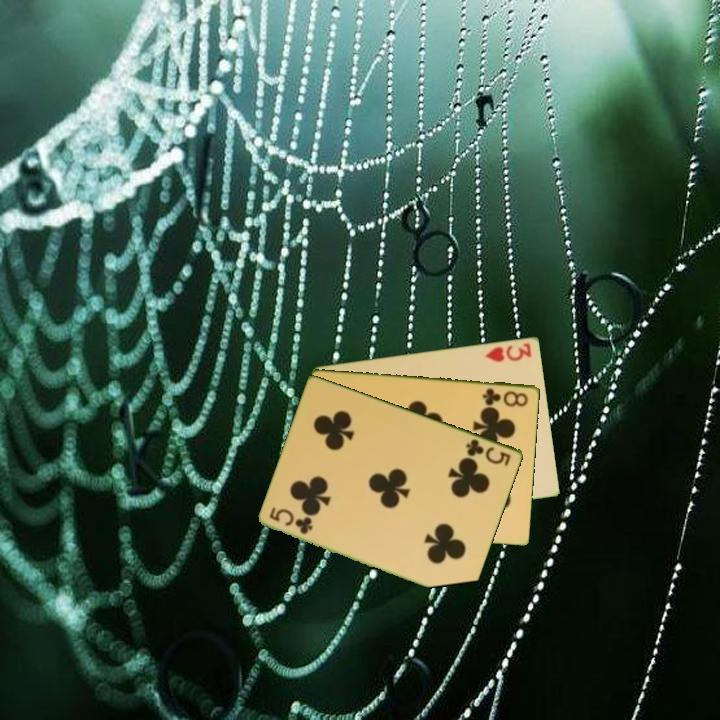3h: (482, 339, 534, 365)
5c: (463, 435, 514, 468), (266, 504, 316, 537)
8c: (479, 384, 531, 409)
